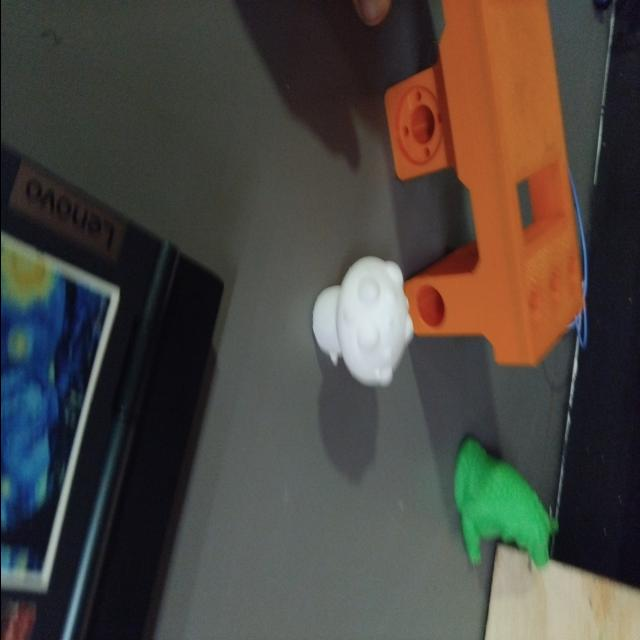Hongo: (308, 245, 409, 397)
